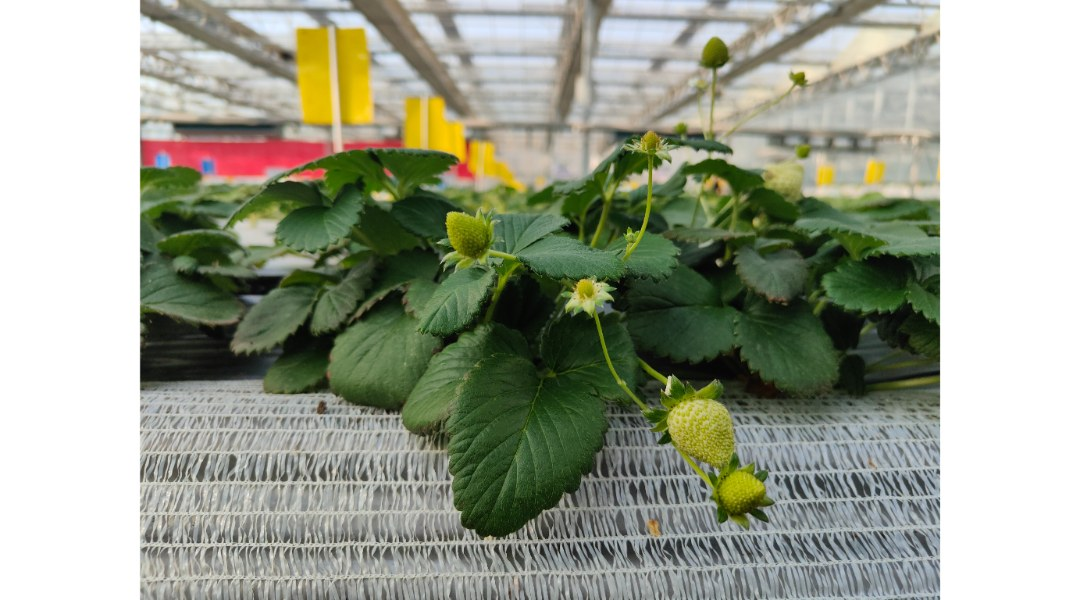berry: (651, 373, 745, 458), (433, 205, 500, 275), (711, 453, 775, 523), (559, 267, 612, 322), (618, 123, 674, 162), (693, 24, 733, 78)
strain: (731, 83, 790, 144), (596, 327, 632, 404), (632, 164, 657, 266), (705, 67, 721, 144)
